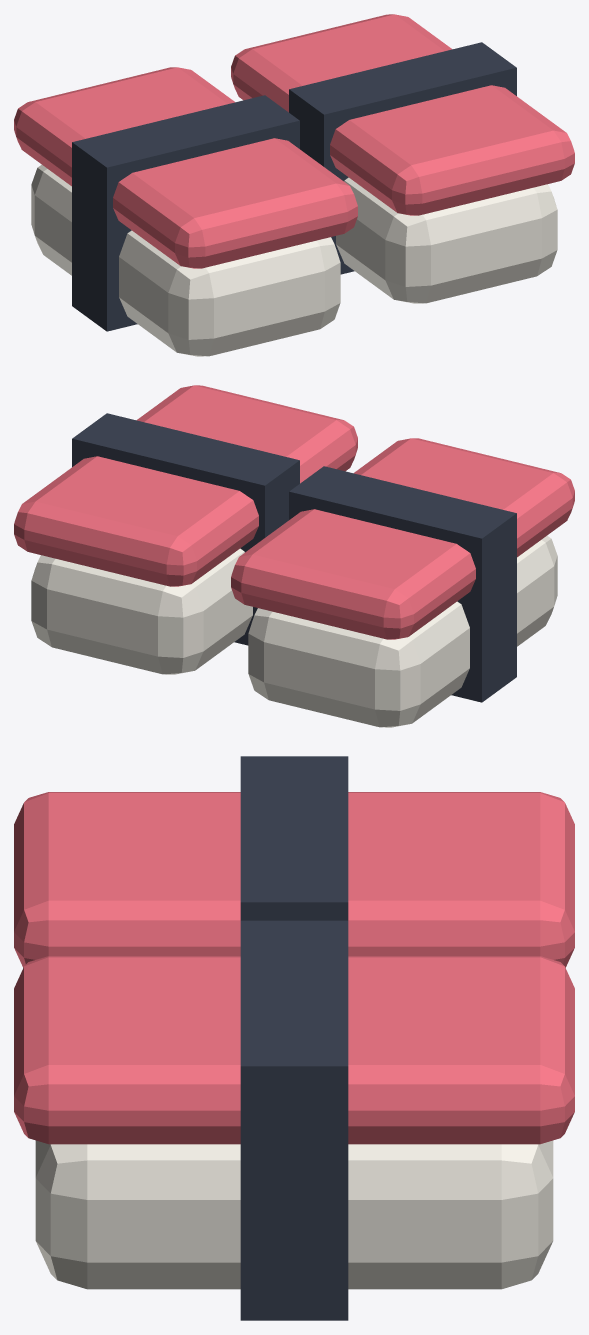
Rendered from food_sushi.glb.
The picture shows the model from 3 angles, top to bottom: view 1: azimuth 30°, elevation 25°; view 2: azimuth 150°, elevation 25°; view 3: azimuth 270°, elevation 25°; orthographic projection. The views are drawn at different scales.
Visible parts, largest first — view 1: food_sushi_f0, food_sushi_f1, food_sushi, food_sushi_r1, food_sushi_n0, food_sushi_n1; view 2: food_sushi_f0, food_sushi_f1, food_sushi, food_sushi_r1, food_sushi_n0, food_sushi_n1; view 3: food_sushi_f1, food_sushi_f0, food_sushi_r1, food_sushi_n1, food_sushi_n0.
Part boxes in pixels (x1,y1,x2,y2): food_sushi_f0: (14, 67, 357, 268); food_sushi_f1: (231, 14, 574, 215); food_sushi: (31, 165, 340, 356); food_sushi_r1: (336, 177, 557, 303); food_sushi_n0: (72, 95, 299, 331); food_sushi_n1: (289, 42, 516, 274); food_sushi_f0: (231, 438, 574, 639); food_sushi_f1: (14, 385, 357, 586); food_sushi: (248, 536, 557, 727); food_sushi_r1: (31, 548, 252, 674); food_sushi_n0: (289, 466, 516, 702); food_sushi_n1: (72, 413, 299, 645); food_sushi_f1: (14, 956, 574, 1144); food_sushi_f0: (14, 792, 574, 967); food_sushi_r1: (35, 1140, 553, 1289); food_sushi_n1: (240, 920, 348, 1320); food_sushi_n0: (240, 756, 348, 920).
Size of the model in its own units: 0.17 by 0.065 by 0.13.
